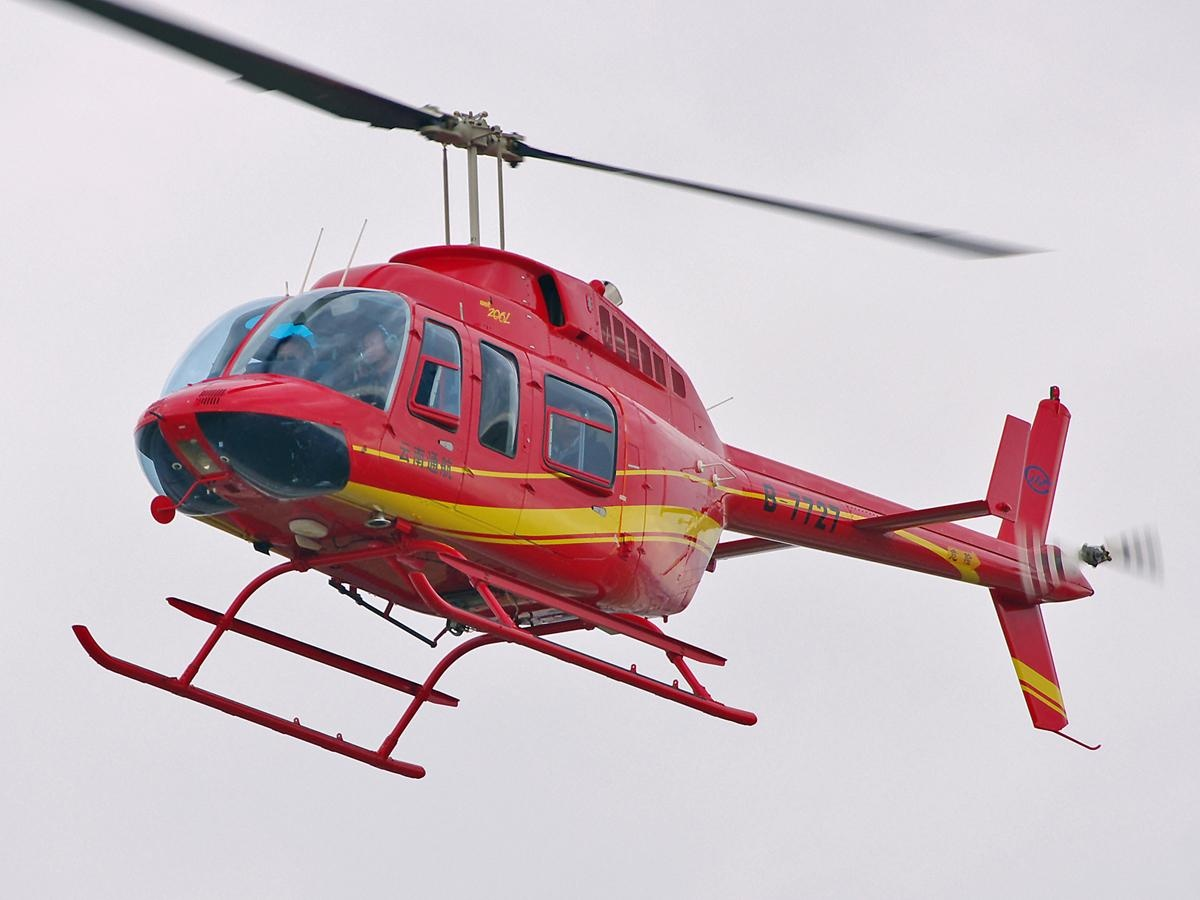airplane: (25, 1, 1174, 778)
